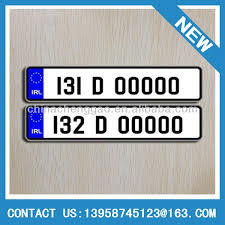inlp: (21, 101, 207, 144), (22, 63, 207, 103)
